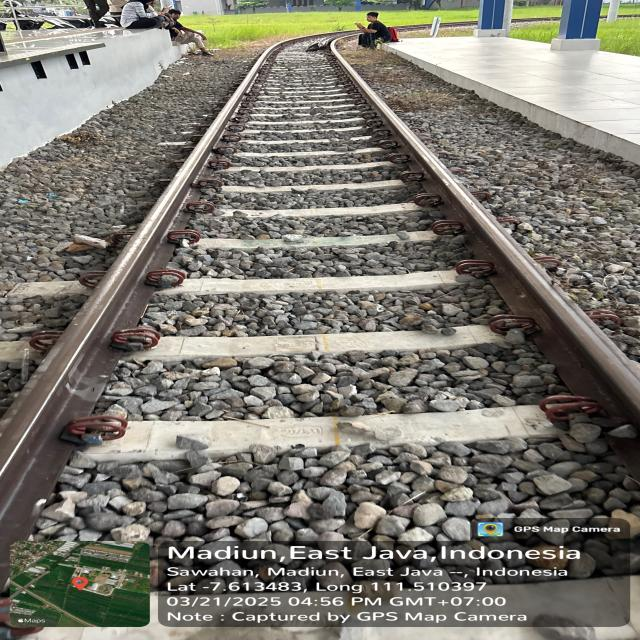rail-detection: (0, 50, 269, 579), (330, 40, 640, 426), (70, 31, 350, 364)
